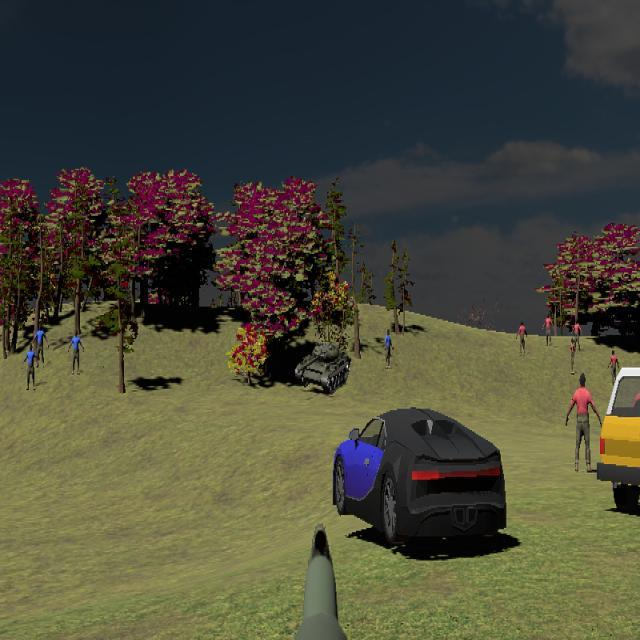Human: (565, 373, 603, 473), (23, 343, 39, 391), (68, 329, 84, 375), (33, 323, 49, 368), (608, 349, 619, 390)
Tank: (295, 341, 351, 396)
car: (332, 406, 508, 547), (597, 364, 640, 518)
